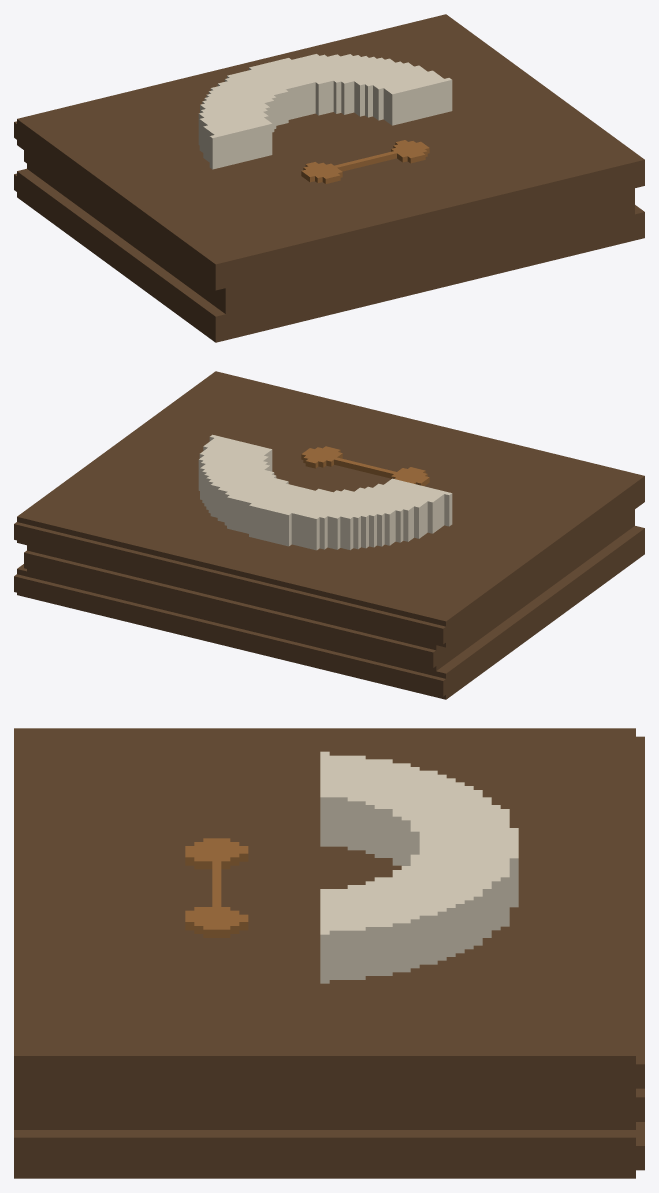
Rendered from cloak_fur.glb.
3 views of the same model, one above another, from view 1: azimuth 30°, elevation 25°; view 2: azimuth 150°, elevation 25°; view 3: azimuth 270°, elevation 25° (orthographic). The views are drawn at different scales.
Visible parts, largest first — view 1: cloak_fur:compound; view 2: cloak_fur:compound; view 3: cloak_fur:compound.
Boxes of the visible parts, x1=… form: cloak_fur:compound: x1=14, y1=14, x2=644, y2=342; cloak_fur:compound: x1=14, y1=371, x2=644, y2=699; cloak_fur:compound: x1=14, y1=728, x2=644, y2=1178.
Size of the model in its own units: 0.344 by 0.084 by 0.28.
